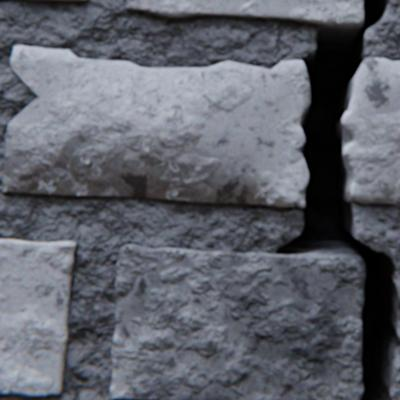brick: (111, 244, 364, 399), (0, 238, 77, 394), (127, 0, 363, 26), (35, 0, 88, 1)
broken_brick: (3, 45, 308, 206), (342, 58, 399, 203)
crack: (276, 0, 399, 399)
